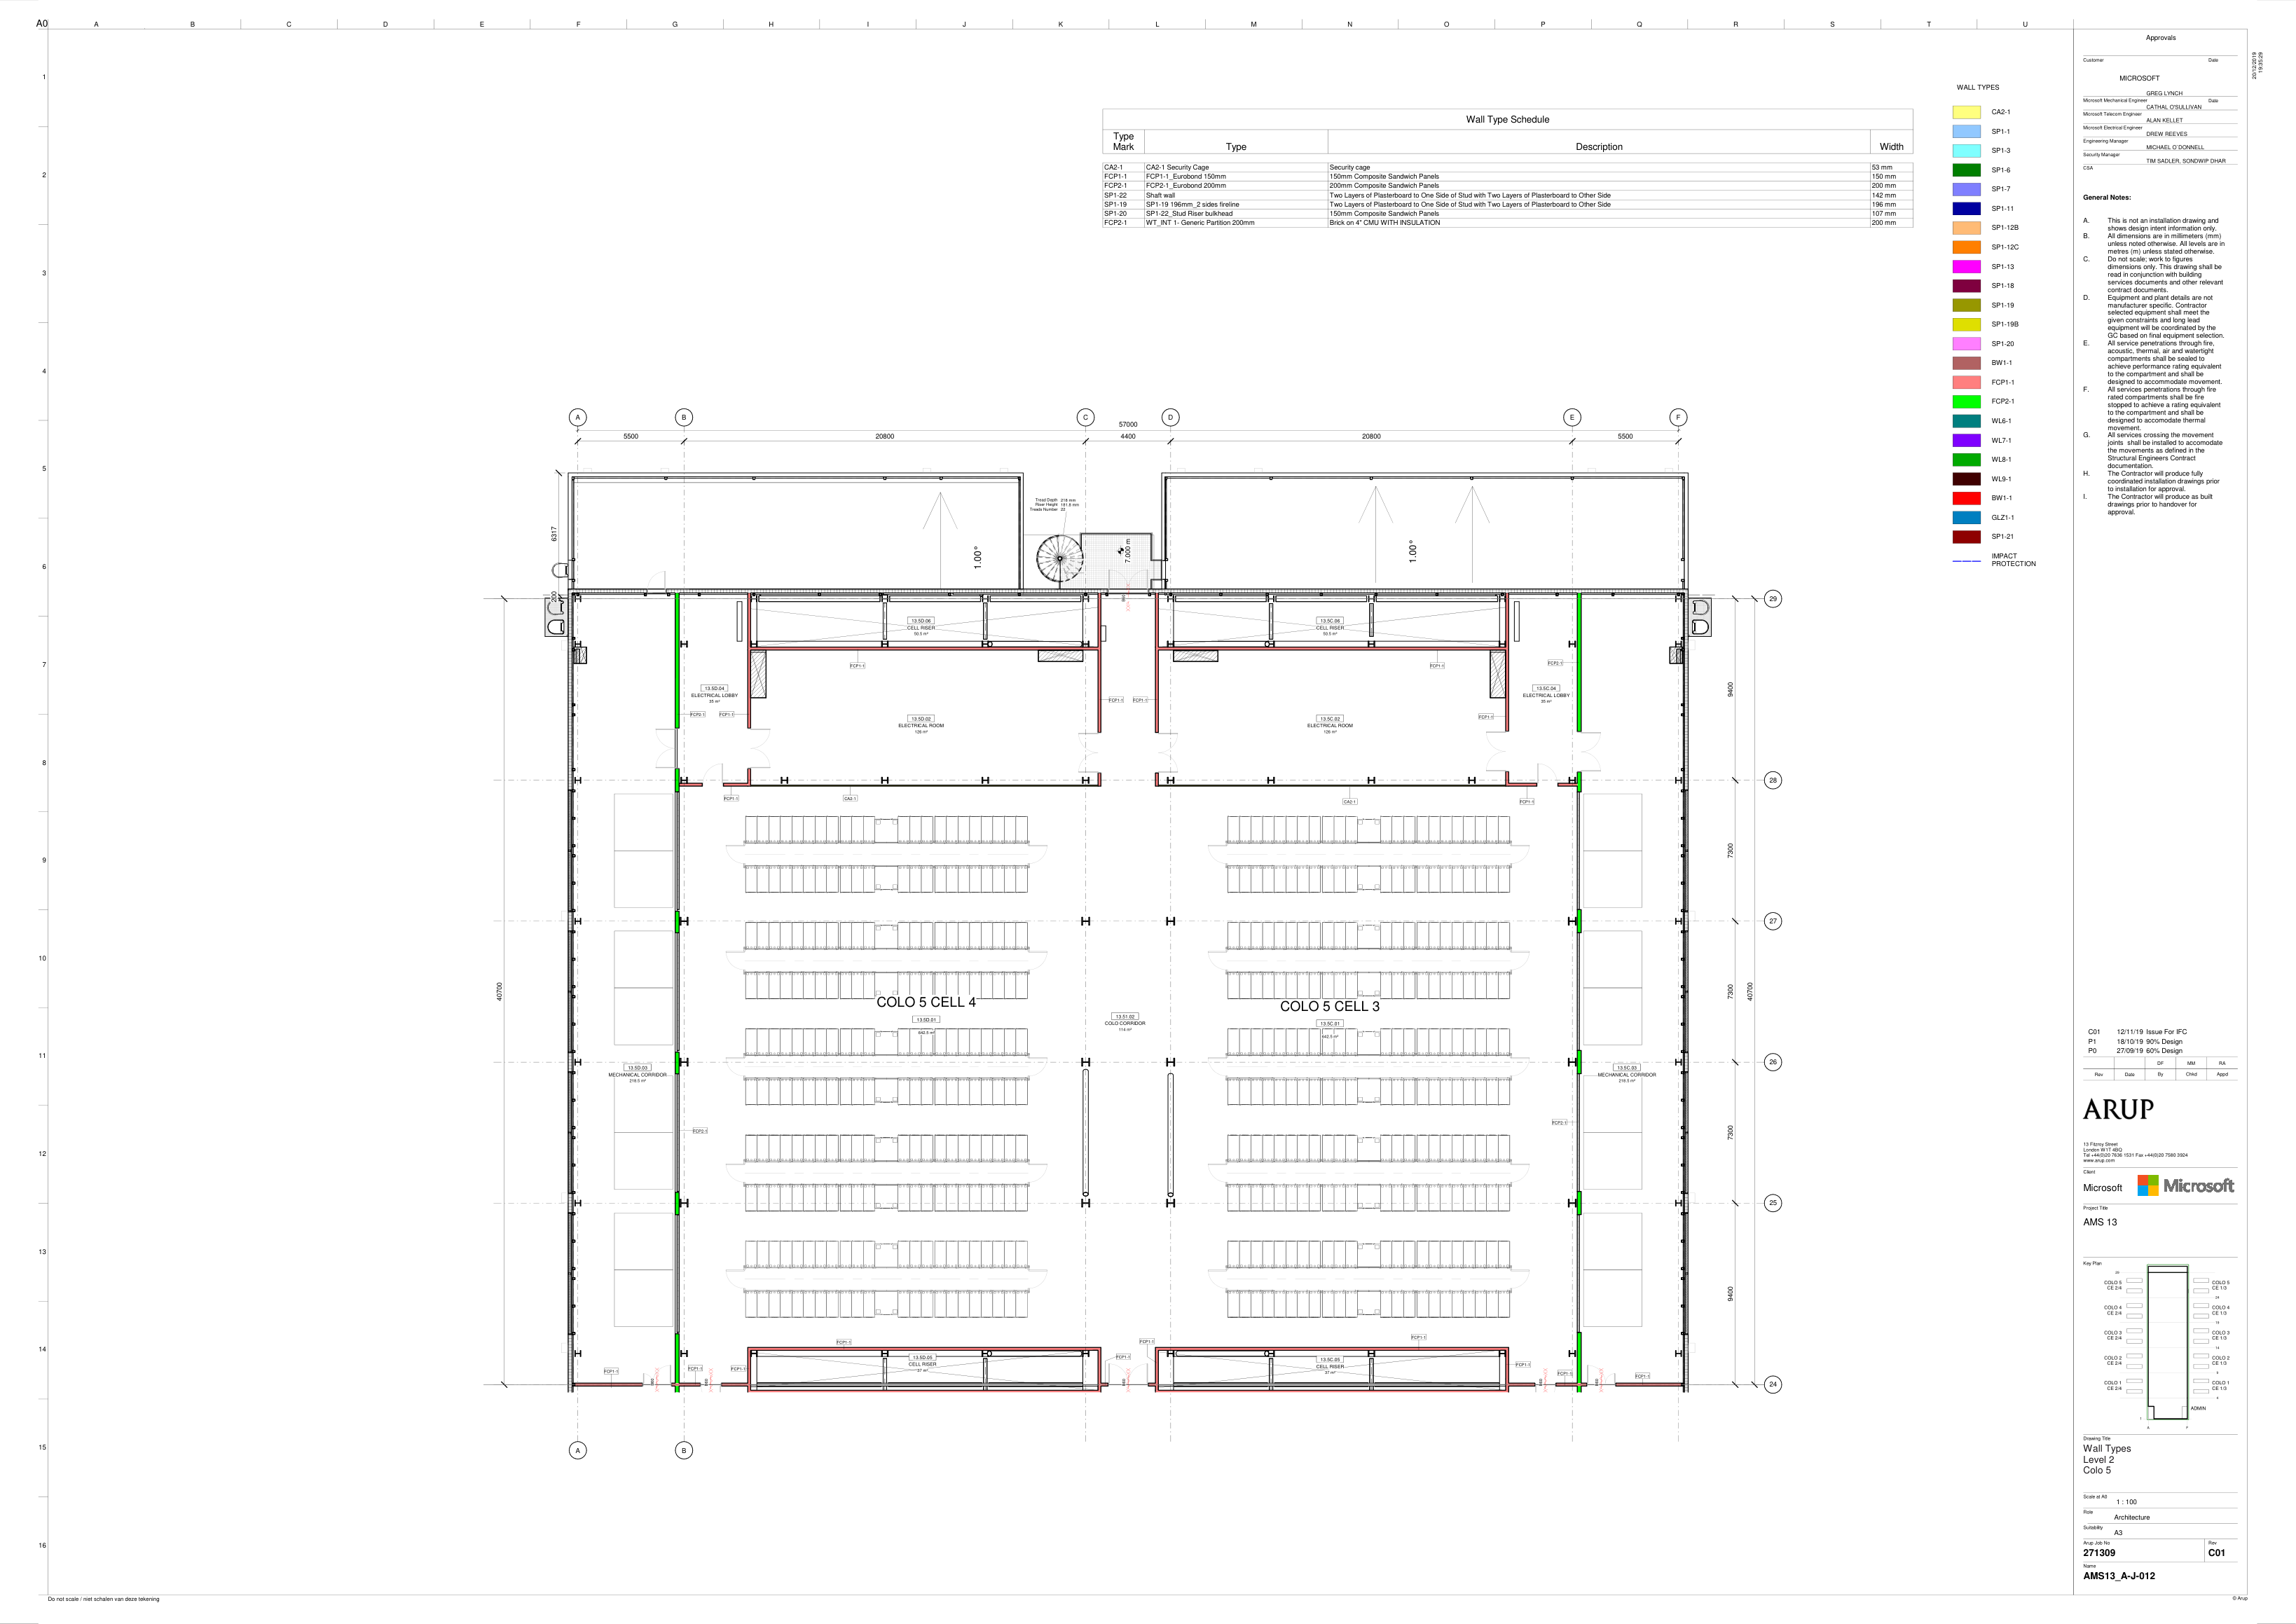Legend: (1946, 81, 2039, 569)
